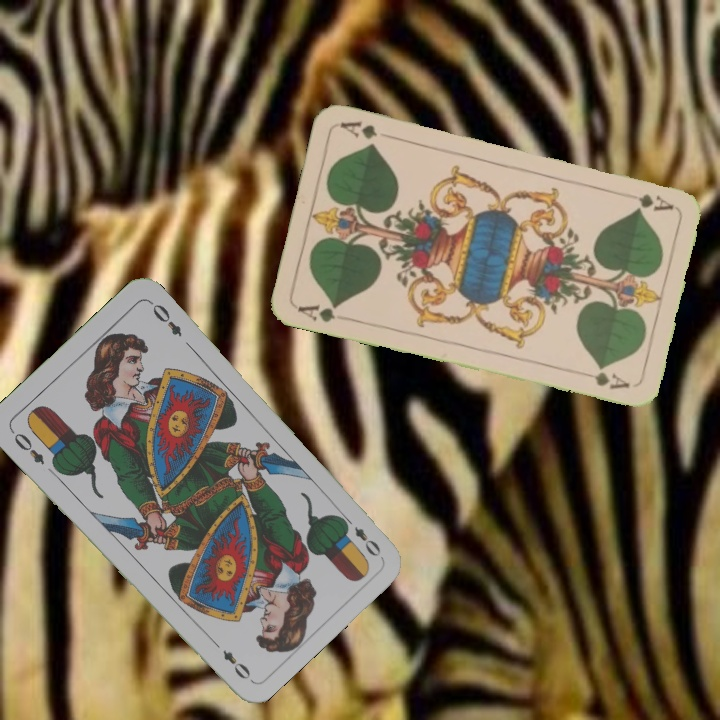EO: (338, 511, 384, 560), (6, 426, 47, 467)
GA: (619, 189, 677, 214), (293, 300, 344, 325)
